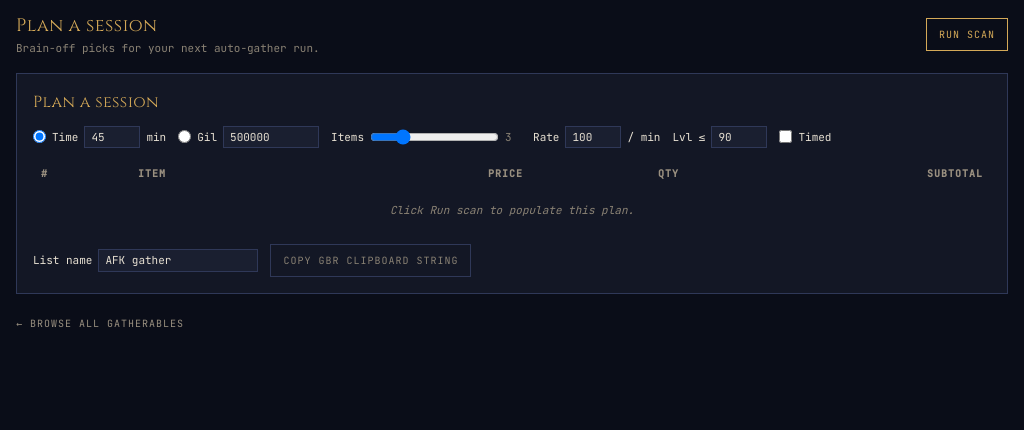
Test case: GatheringPlan route › includes crystals in the plan when hideCrystals is off
Step 1. Click the button "Run scan" → [967, 34], box [926,18,1008,51]
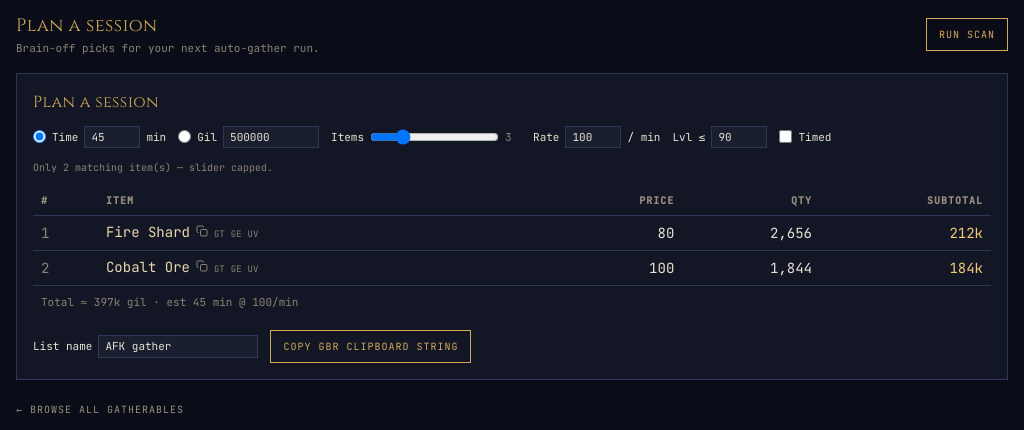
Expected: the link "Fire Shard" is shown, [106,222,190,242]
